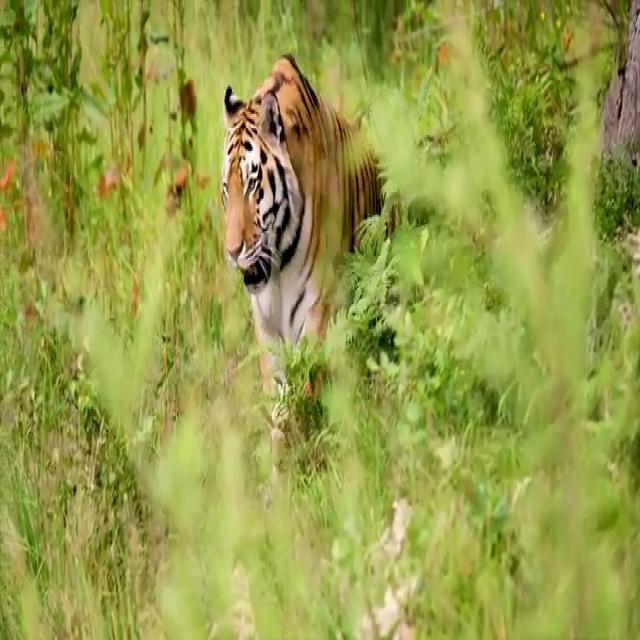tiger: (221, 50, 398, 466)
